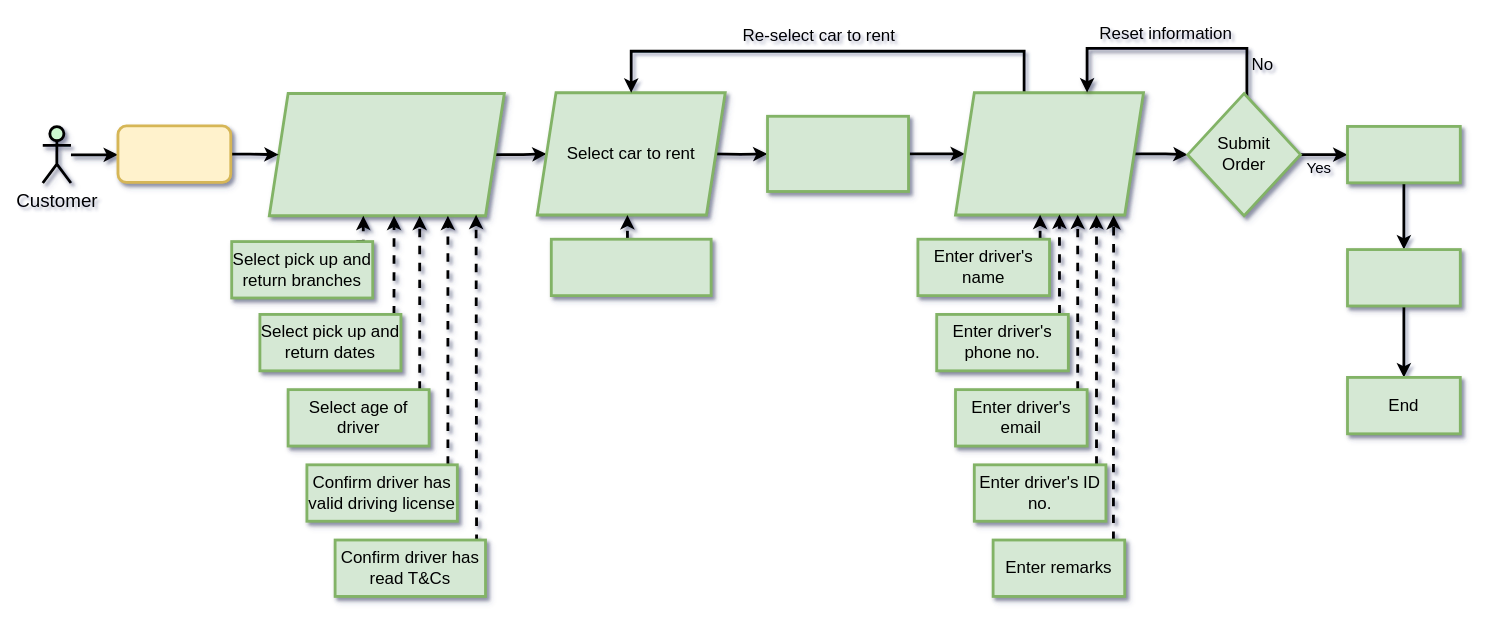
Image size: 1489x626. Some labels were removed from this diagram. Each missing label, with the centre of its shape:
Calculate total rental amount: point 838,155
Enter driver's personal particulars: point 1050,154
Enter information of car driver, pick up and return: point 387,155
Homepage: point 174,155
Order confirmation: point 1404,155
Select car brand and type: point 632,268
Send confirmation email: point 1404,278
